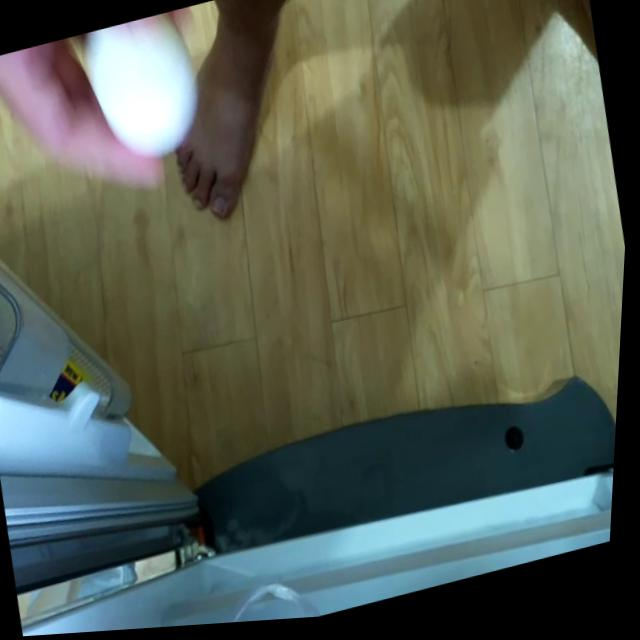egg: (76, 9, 214, 175)
